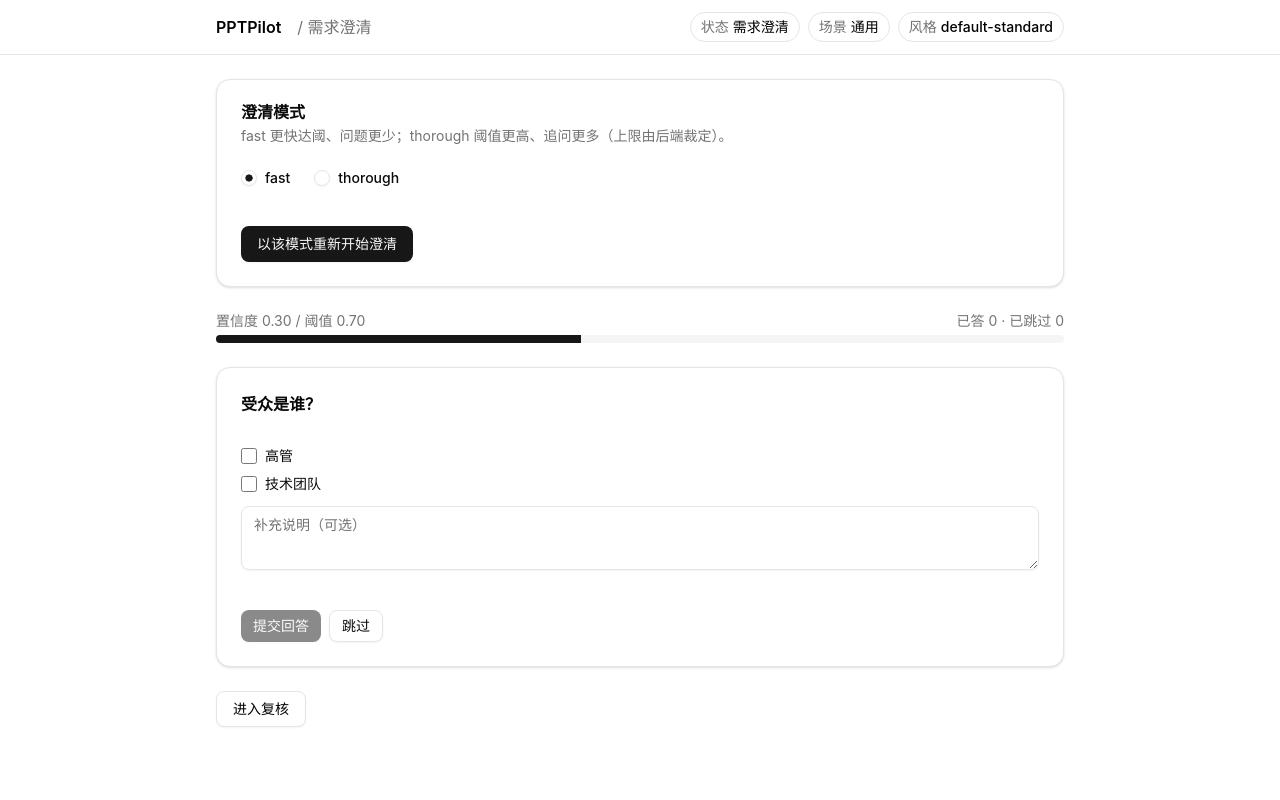
discovery page — QUESTION_NOT_FOUND is an explicit restart, not auto-discover › invalidates the session and surfaces a restart CTA without re-discovering
The width and height of the screenshot is (1280, 800).
expect the text "受众是谁？" is shown: met, box left=241, top=394, right=321, bottom=414
Click the checkbox labelled "高管" at x=249, y=456, box left=241, top=448, right=257, bottom=464
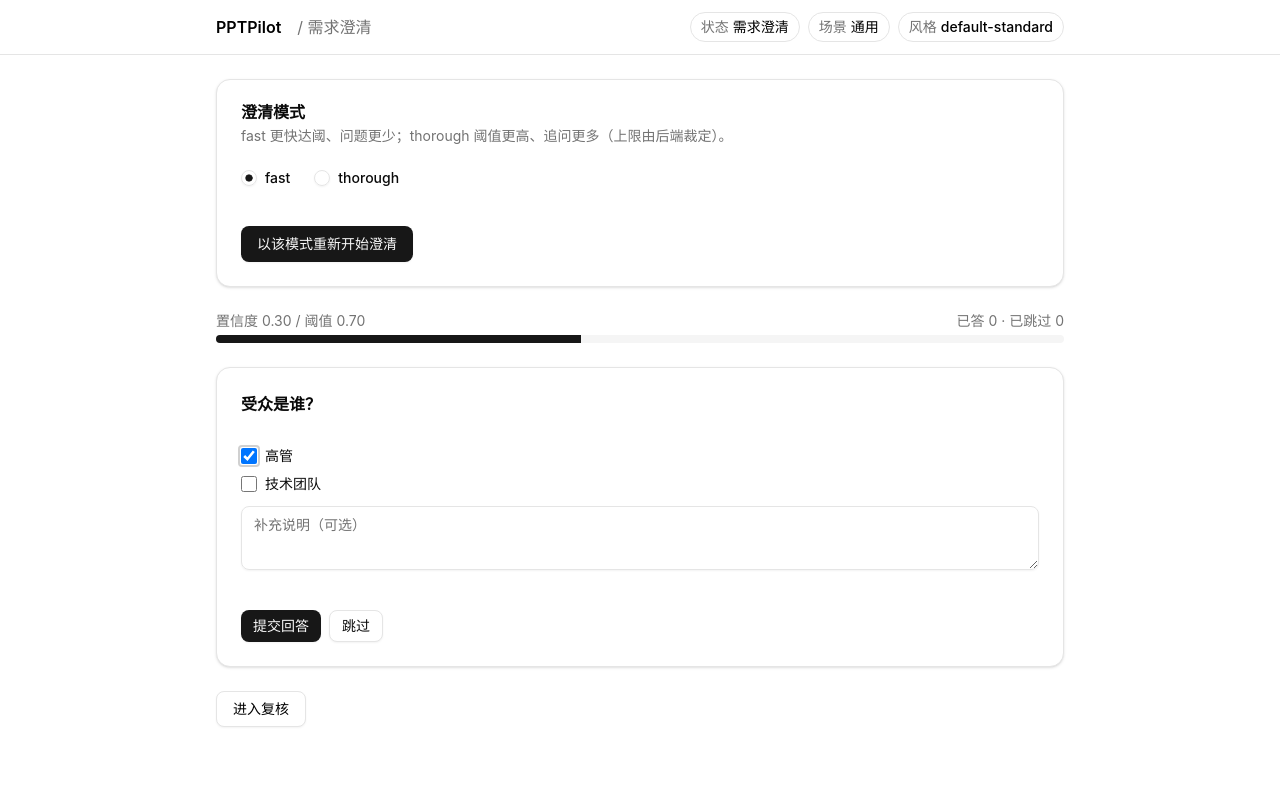
Click the button "提交回答" at x=281, y=626, box left=241, top=610, right=321, bottom=642
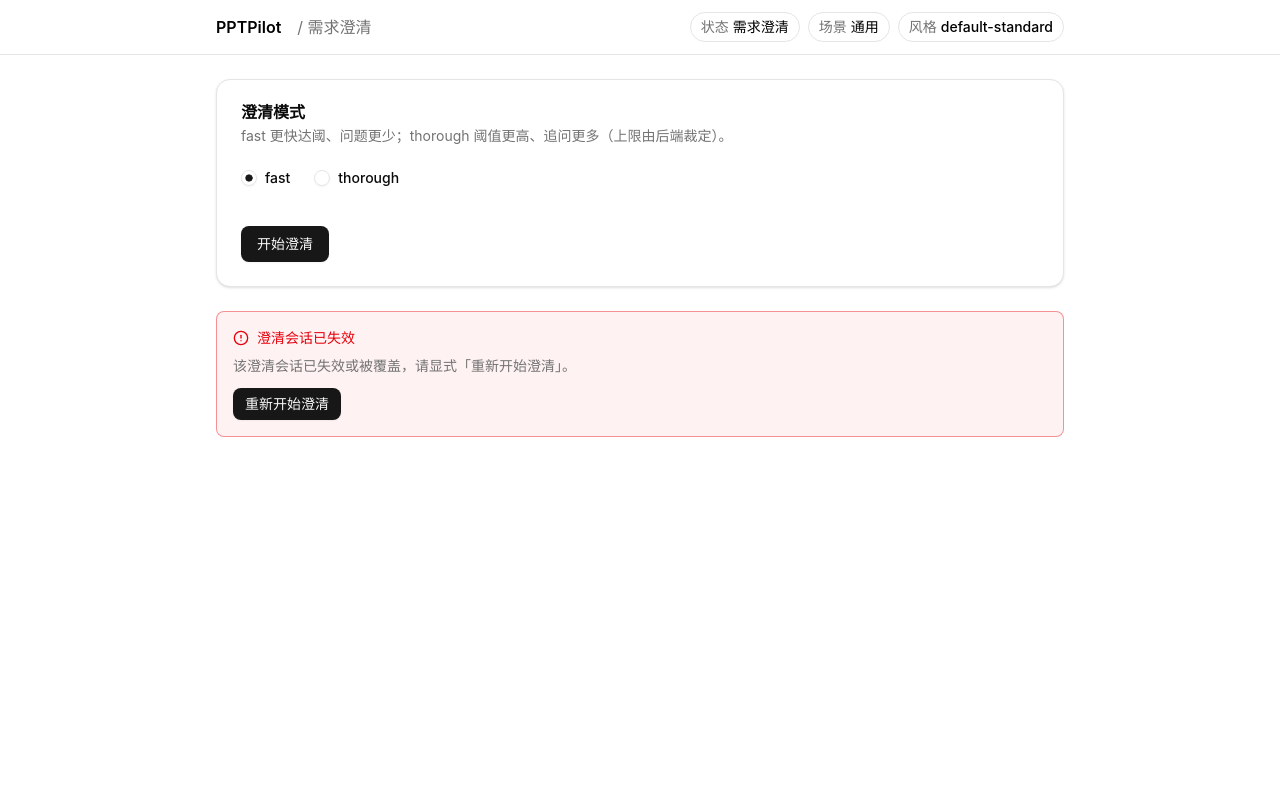
expect the message "澄清会话已失效 该澄清会话已失效或被覆盖，请显式「重新开始澄清」。 重新开始澄清" is shown: met, box left=216, top=311, right=1064, bottom=437
expect the button "重新开始澄清" is shown: met, box left=233, top=388, right=341, bottom=420
